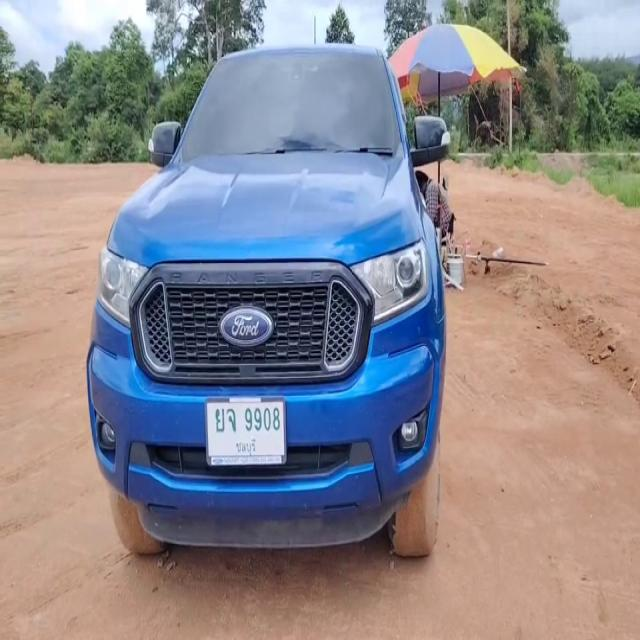Digit: (244, 400, 280, 434)
Licenseplate: (203, 395, 287, 471)
Provincename: (234, 435, 258, 457)
Thaichar: (215, 403, 238, 436)
